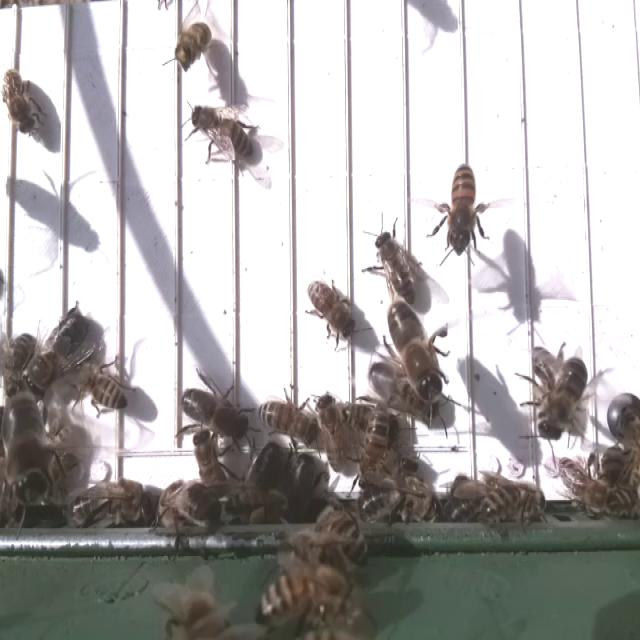Drone: (383, 297, 445, 406), (25, 304, 91, 398), (534, 353, 590, 446), (178, 380, 251, 441)
Worker: (189, 101, 257, 166), (305, 275, 358, 344), (374, 226, 417, 302), (254, 393, 314, 444), (450, 162, 480, 259), (317, 392, 352, 475), (72, 364, 130, 413), (0, 67, 40, 138), (172, 20, 215, 73)
